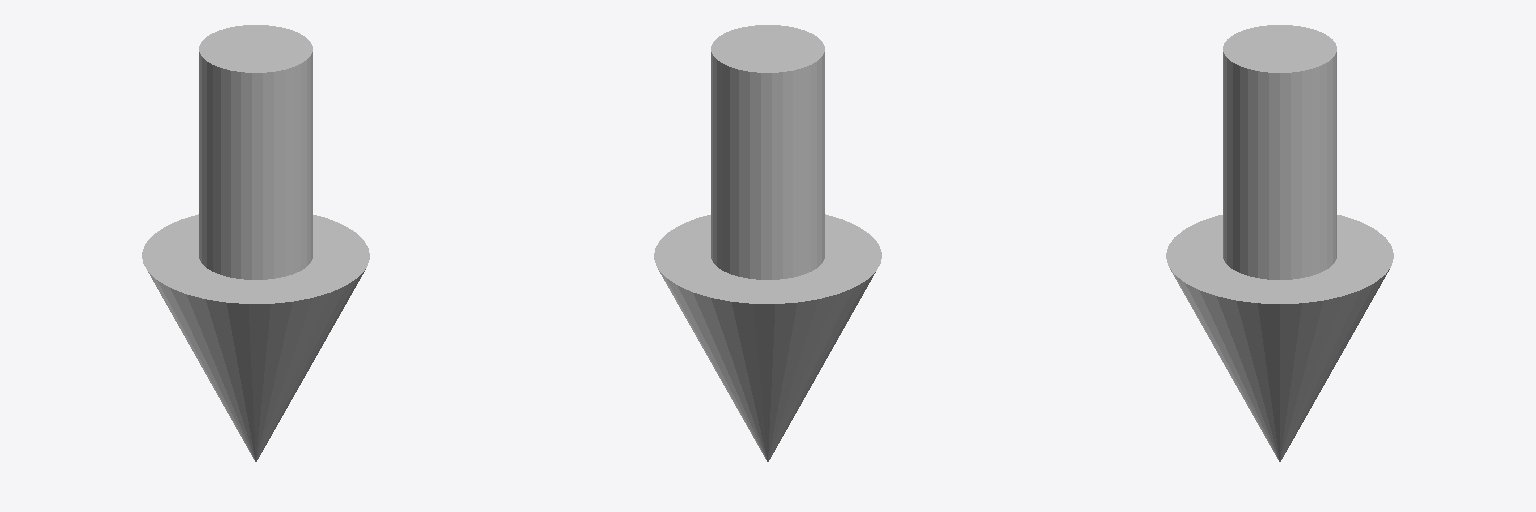
The model's file is Arrow.obj.
3 renders of one model, left to right at view 1: azimuth 30°, elevation 25°; view 2: azimuth 150°, elevation 25°; view 3: azimuth 270°, elevation 25°, orthographic.
Parts seen in each view (by area): view 1: Cylinder; view 2: Cylinder; view 3: Cylinder.
Part boxes in pixels (left/top/right/bottom): Cylinder: left=142, top=25, right=369, bottom=461; Cylinder: left=654, top=25, right=881, bottom=461; Cylinder: left=1166, top=25, right=1393, bottom=461.
Size of the model in its own units: 2 by 4 by 2.